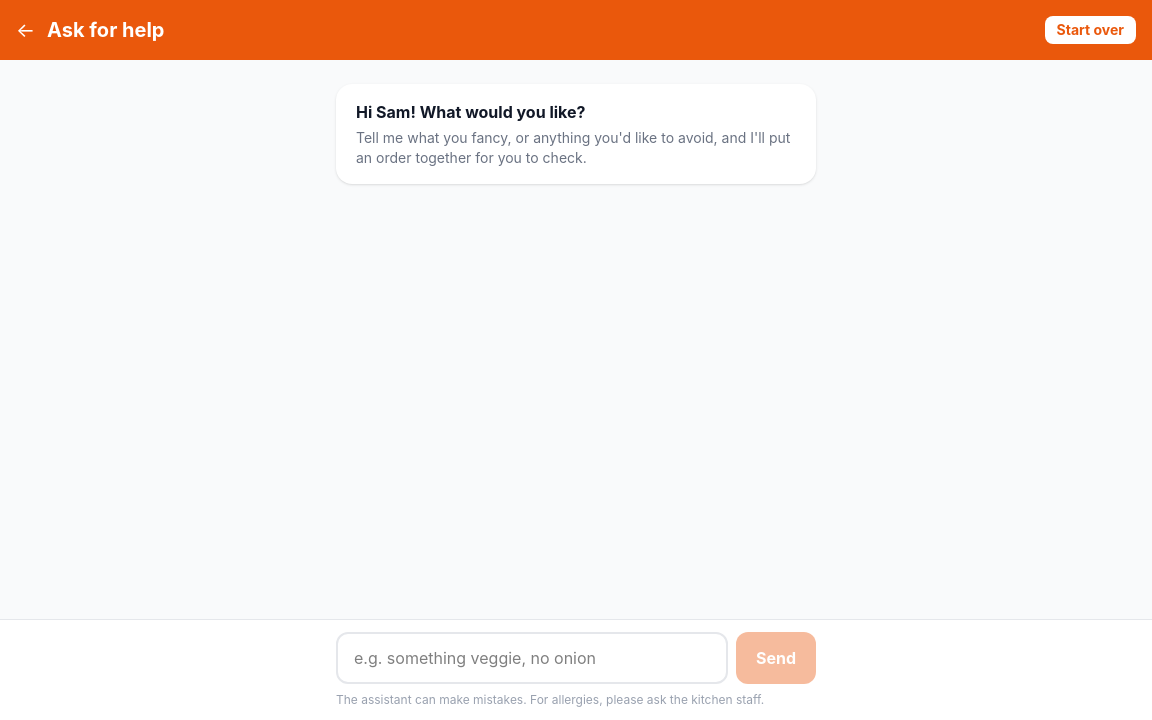
AssistantChat › sends the conversation, name and a conversation id, then shows the reply
This screenshot has width=1152, height=720.
Type "What do you have?" into the field named "Message" at (532, 658), box [336,632,728,684]
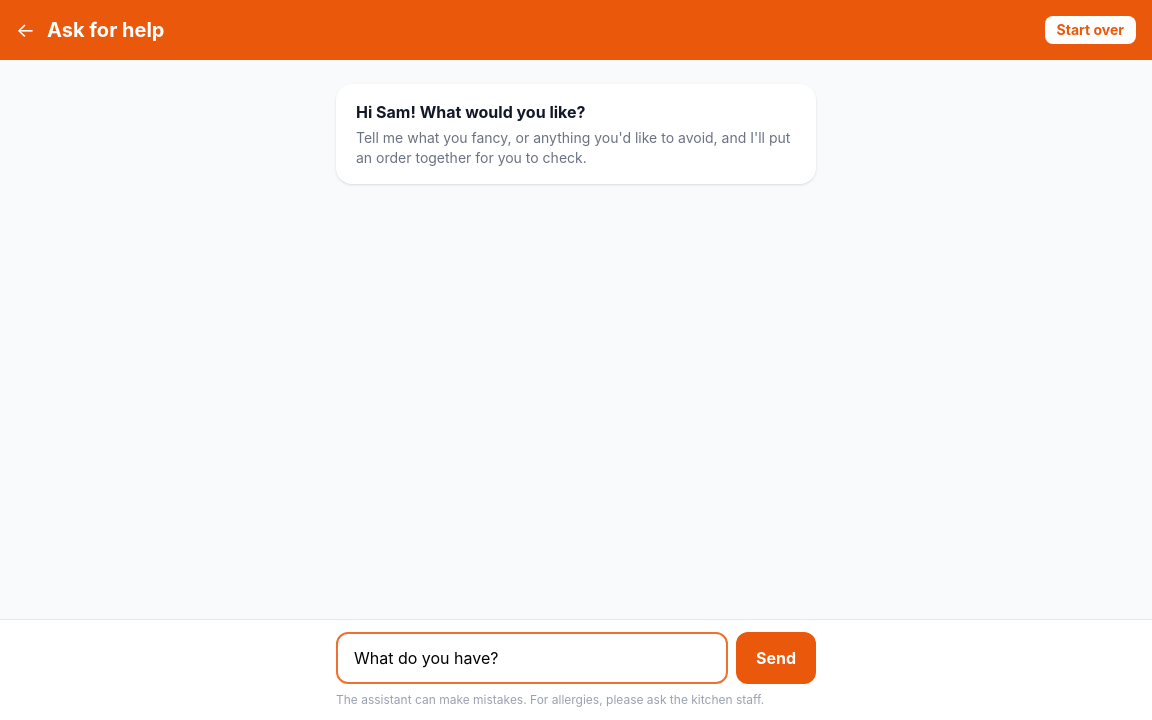
Click the button "Send" at (776, 658), box [736,632,816,684]
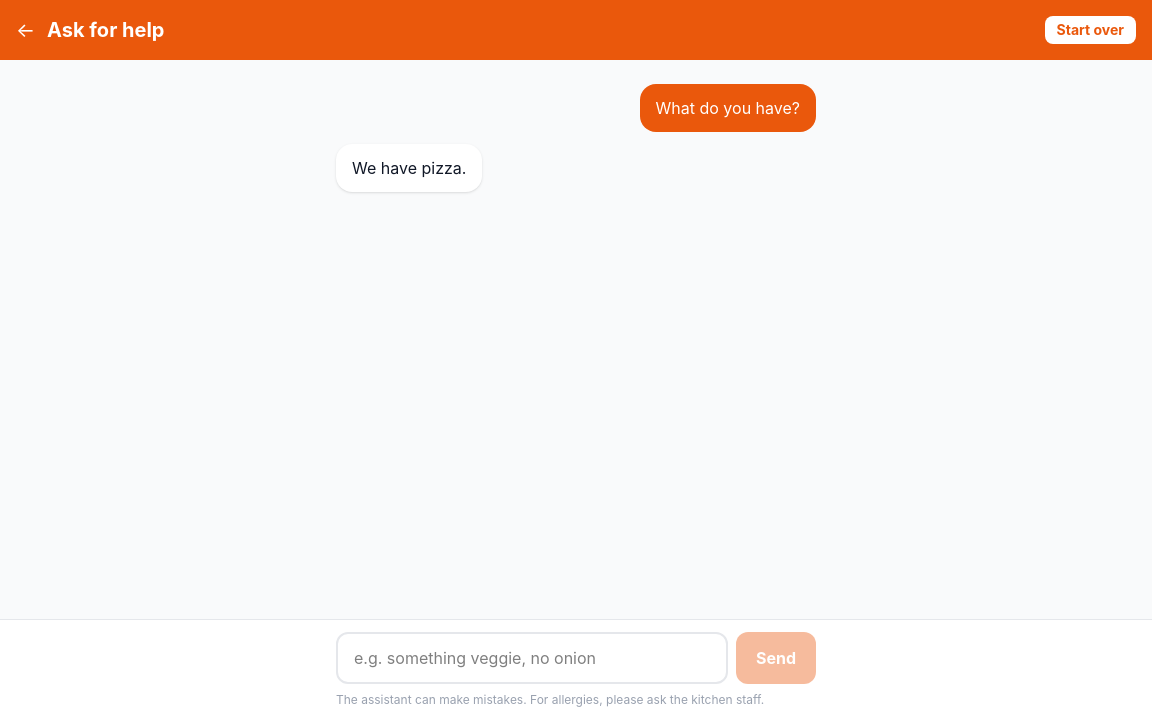
expect the text "We have pizza." is shown: met, box [336,144,482,192]
expect the text "What do you have?" is shown: met, box [640,84,816,132]
